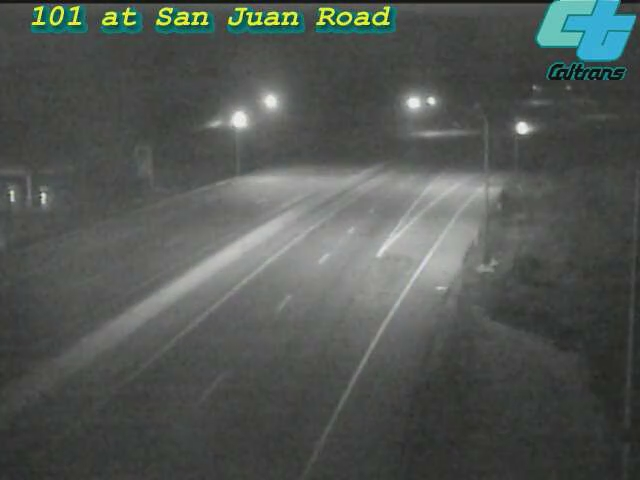vehicle: (498, 104, 548, 154)
